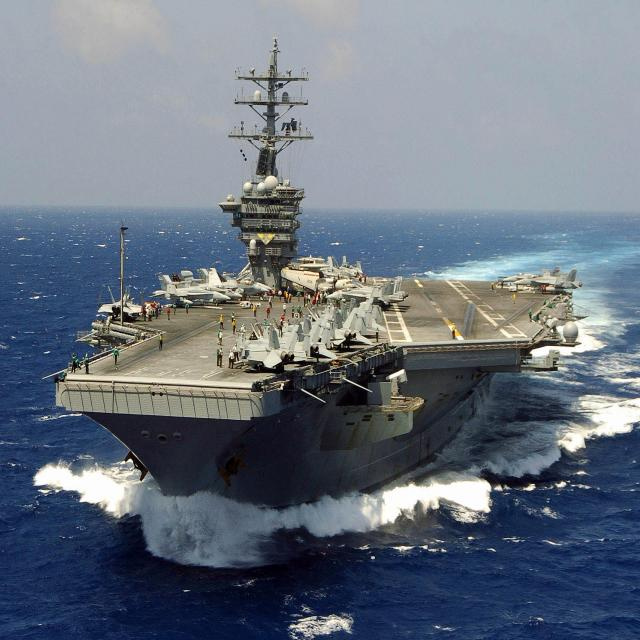Portanaves: (51, 34, 588, 531)
